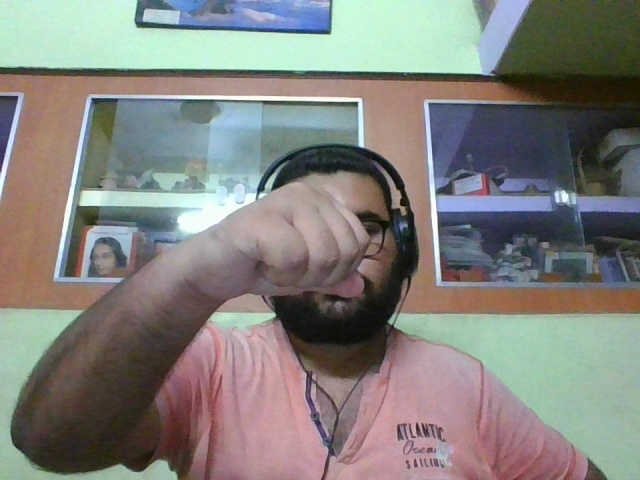yes: (207, 180, 370, 318)
